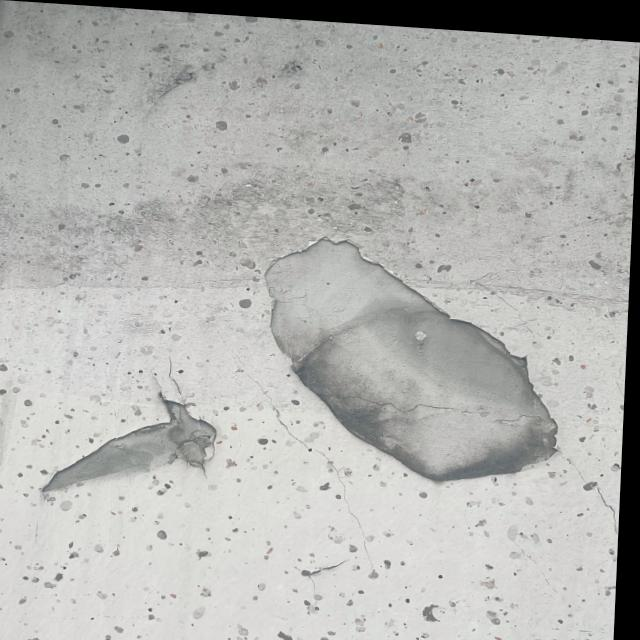crack: (234, 356, 396, 579)
spalling: (255, 213, 567, 489), (32, 373, 232, 521)
